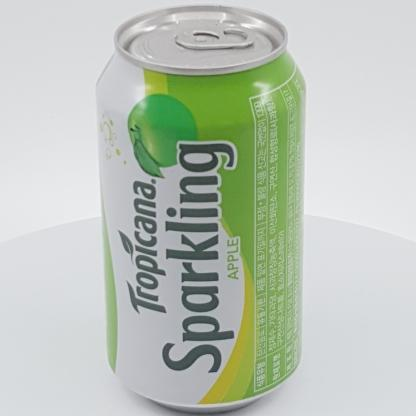-------------355ML: (96, 4, 306, 415)
